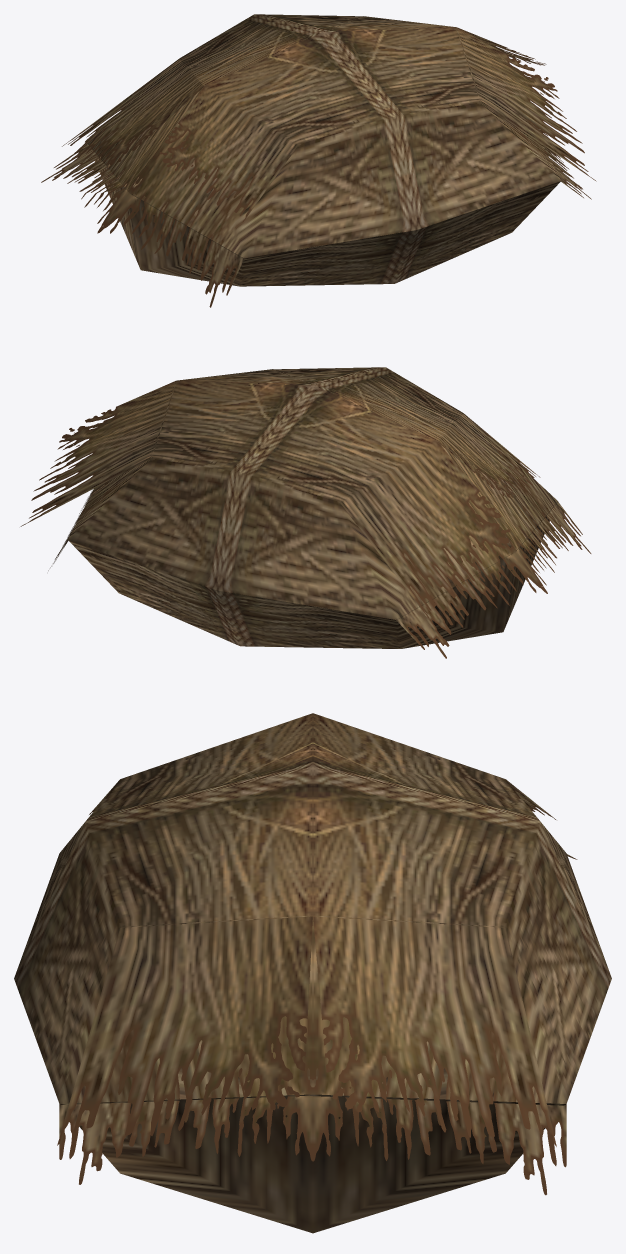
The model's file is ZZL_Item_12.FBX.
3 views of the same model, one above another, from view 1: azimuth 30°, elevation 25°; view 2: azimuth 150°, elevation 25°; view 3: azimuth 270°, elevation 25° (orthographic). The views are drawn at different scales.
Visible parts, largest first — view 1: ZZL_Item_12; view 2: ZZL_Item_12; view 3: ZZL_Item_12.
Part boxes in pixels (<box>): ZZL_Item_12: <box>41,14,596,307</box>; ZZL_Item_12: <box>20,367,591,658</box>; ZZL_Item_12: <box>14,713,611,1233</box>.
Size of the model in its own units: 116 by 48.58 by 72.33.
